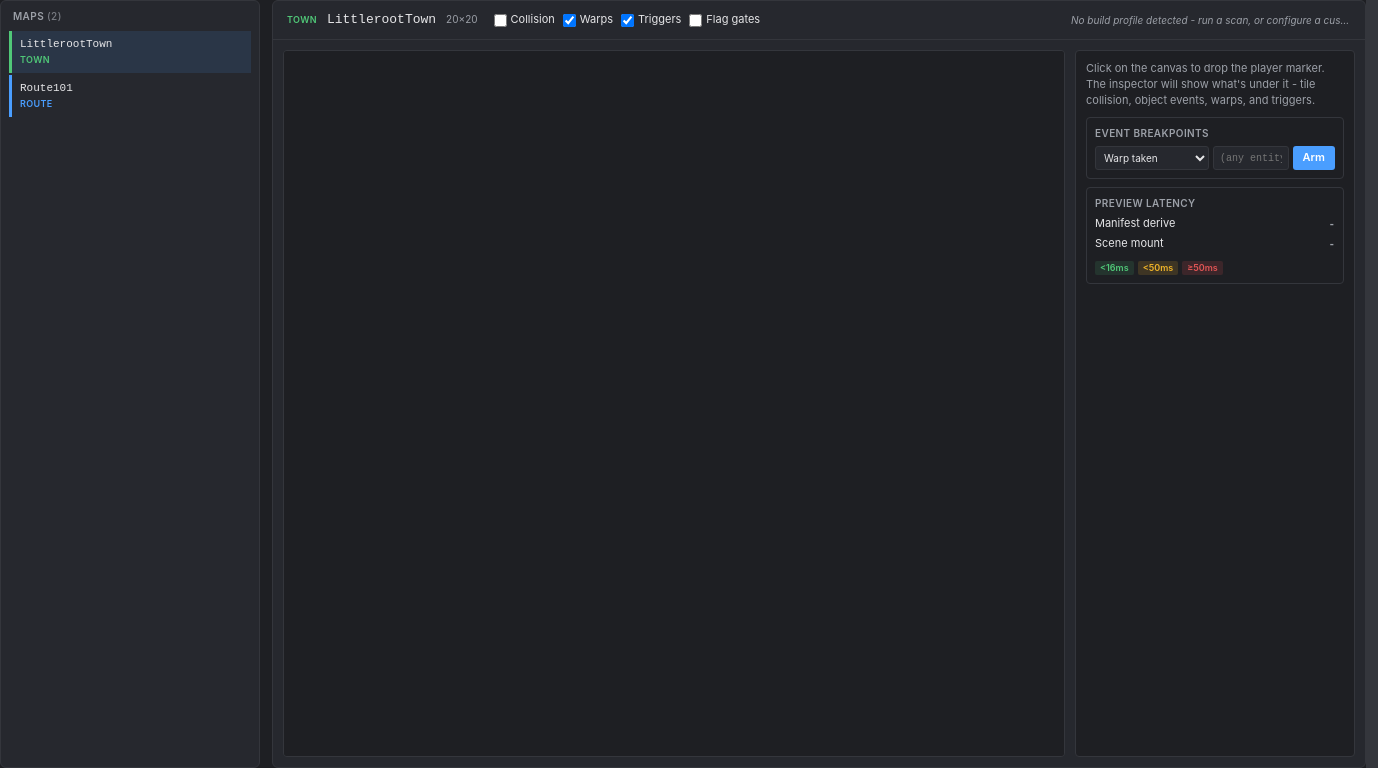
Test case: PreviewView › switches selected map when a different rail item is clicked
Click the button with test id "preview-map-Route101": x=130, y=96 [9,75,251,117]
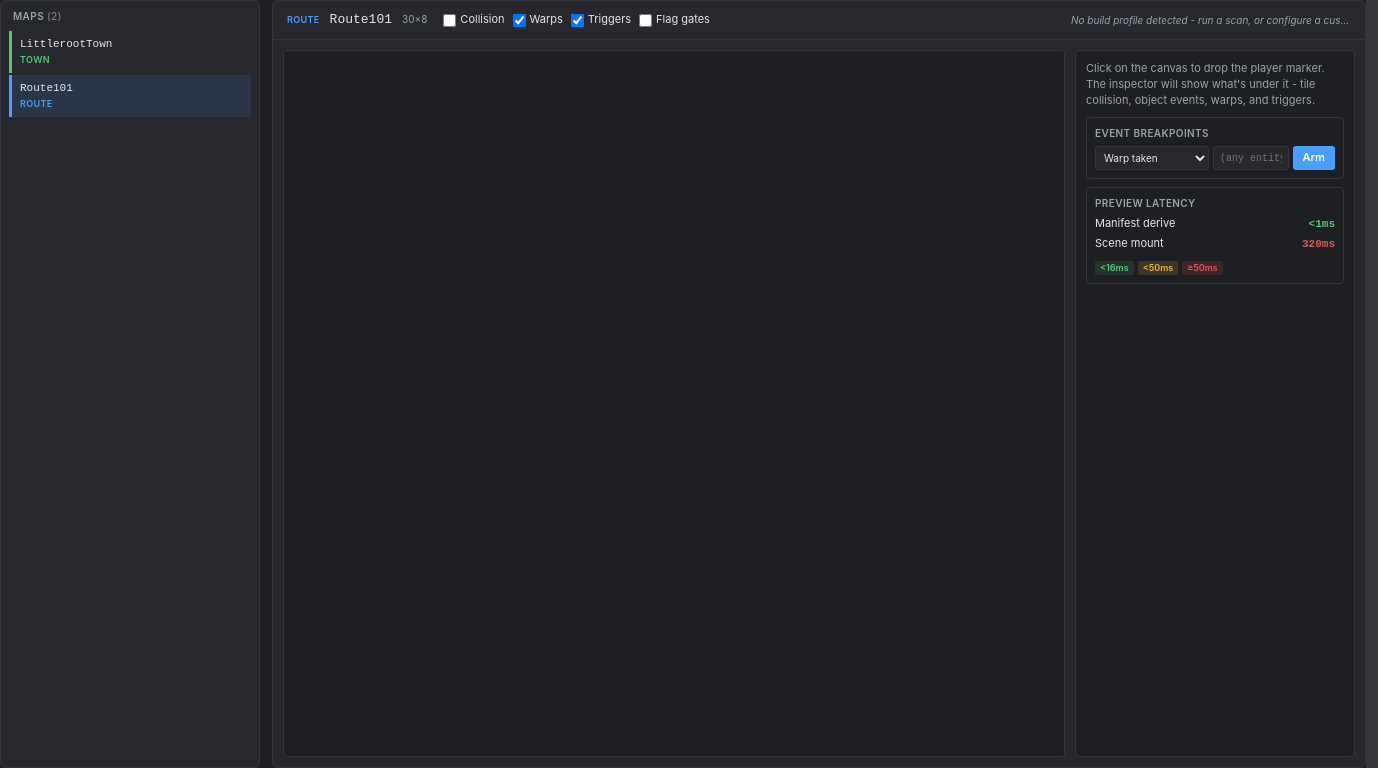
Now the text with test id "preview-scene-name" reads "Route101", box [330,12,392,27]
